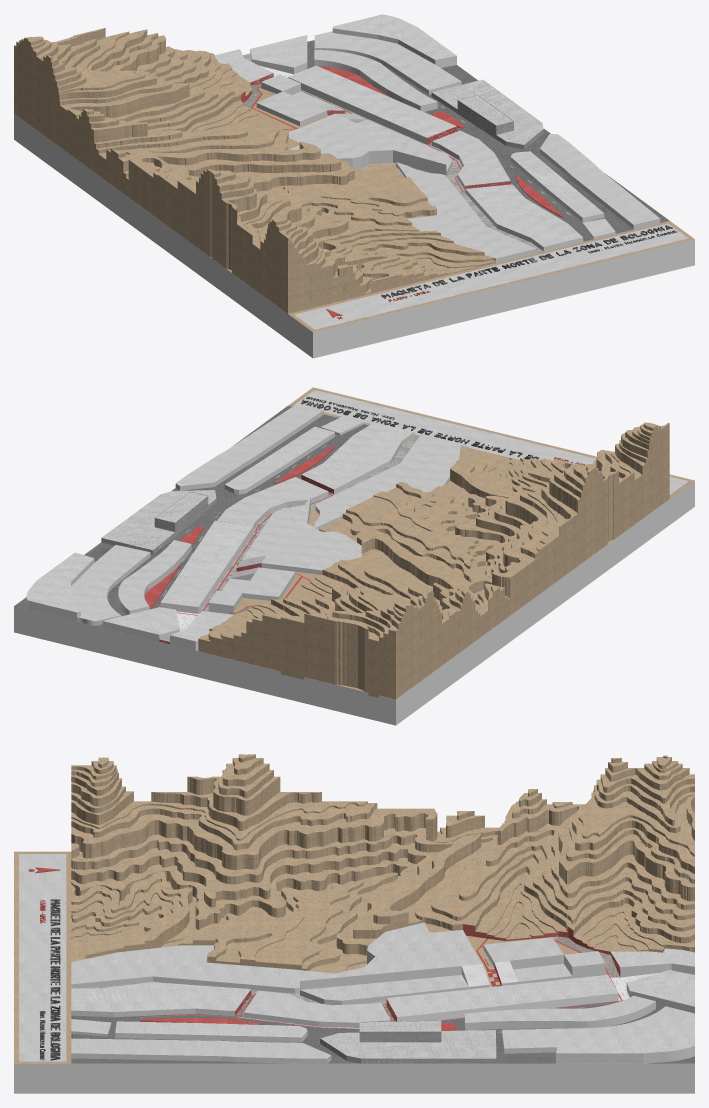
Rendered from Bolognia.glb.
3 views of the same model, one above another, from view 1: azimuth 30°, elevation 25°; view 2: azimuth 150°, elevation 25°; view 3: azimuth 270°, elevation 25° (orthographic). The views are drawn at different scales.
Visible parts, largest first — view 1: instance_1.001, group_24.001, group_24.004, group_16.001, group_36.004, group_23.001, group_21.002, group_32.001, group_28, group_30.001, group_24.003, group_15 (+19 smaller); view 2: instance_1.001, group_24.001, group_24.004, group_36.004, group_16.001, group_32.001, group_23.001, group_21.002, group_28, group_30.001, group_15, group_34.002 (+16 smaller); view 3: instance_1.001, group_24.001, group_24.004, group_16.001, group_32.001, group_23.001, group_36.004, group_21.002, group_28, group_15, group_24.003, group_30.001 (+23 smaller).
Part boxes in pixels (bbox=[...]): instance_1.001: bbox=[14, 28, 495, 313]; group_24.001: bbox=[14, 113, 694, 358]; group_24.004: bbox=[294, 223, 688, 329]; group_16.001: bbox=[396, 162, 535, 258]; group_36.004: bbox=[307, 40, 669, 241]; group_23.001: bbox=[288, 65, 456, 137]; group_21.002: bbox=[466, 184, 582, 246]; group_32.001: bbox=[288, 113, 444, 164]; group_28: bbox=[540, 134, 659, 224]; group_30.001: bbox=[314, 31, 460, 90]; group_24.003: bbox=[288, 165, 694, 332]; group_15: bbox=[432, 79, 543, 144]; instance_1.001: bbox=[198, 422, 669, 699]; group_24.001: bbox=[14, 481, 694, 725]; group_24.004: bbox=[294, 390, 688, 494]; group_36.004: bbox=[14, 406, 368, 627]; group_16.001: bbox=[314, 434, 461, 527]; group_32.001: bbox=[237, 497, 361, 570]; group_23.001: bbox=[161, 520, 253, 606]; group_21.002: bbox=[301, 422, 413, 489]; group_28: bbox=[176, 403, 323, 486]; group_30.001: bbox=[71, 545, 149, 621]; group_15: bbox=[101, 490, 216, 549]; group_34.002: bbox=[217, 477, 327, 525]; instance_1.001: bbox=[71, 754, 694, 973]; group_24.001: bbox=[14, 1064, 694, 1093]; group_24.004: bbox=[19, 854, 66, 1061]; group_16.001: bbox=[71, 945, 334, 988]; group_32.001: bbox=[302, 922, 489, 986]; group_23.001: bbox=[386, 975, 618, 1016]; group_36.004: bbox=[71, 1000, 694, 1063]; group_21.002: bbox=[71, 982, 250, 1011]; group_28: bbox=[71, 1038, 330, 1058]; group_15: bbox=[320, 1030, 496, 1058]; group_24.003: bbox=[14, 851, 694, 1063]; group_30.001: bbox=[502, 1006, 694, 1048].
Bounding box in the file's own units: 350 × 97.98 × 475.
18 materials, 11 textured.
